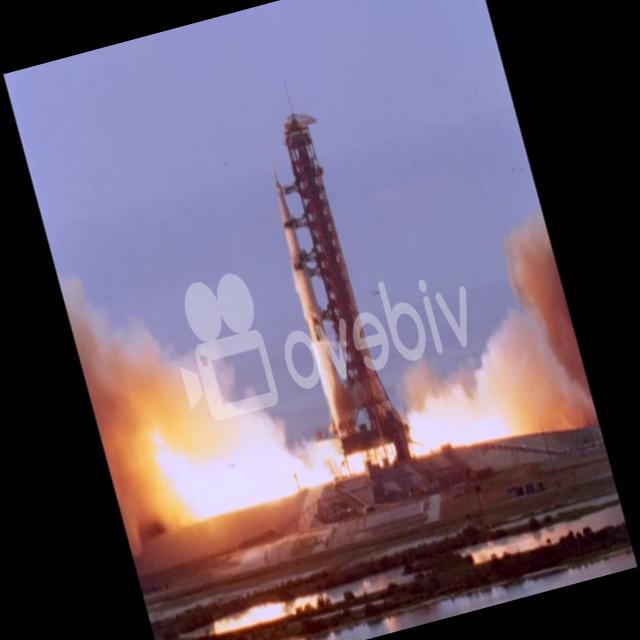rocket: (256, 153, 356, 449)
